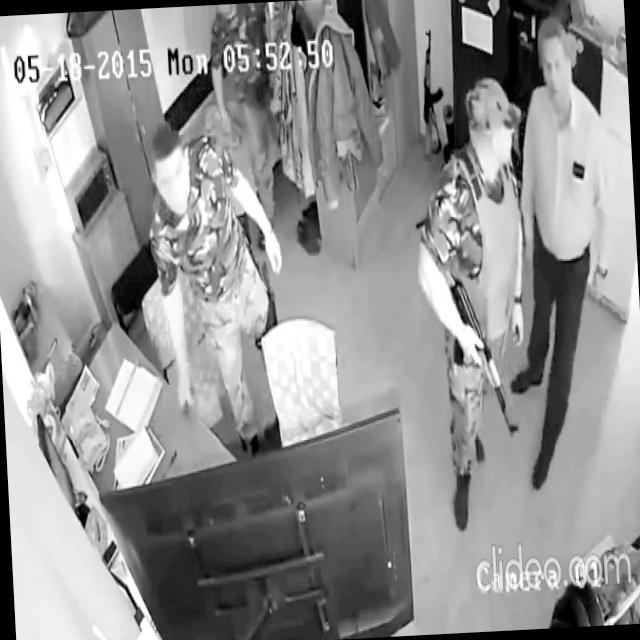gun: (446, 270, 522, 443), (418, 27, 448, 161)
person: (492, 14, 628, 493), (145, 114, 293, 457), (206, 1, 304, 250)
person with a gun: (410, 76, 540, 534)
